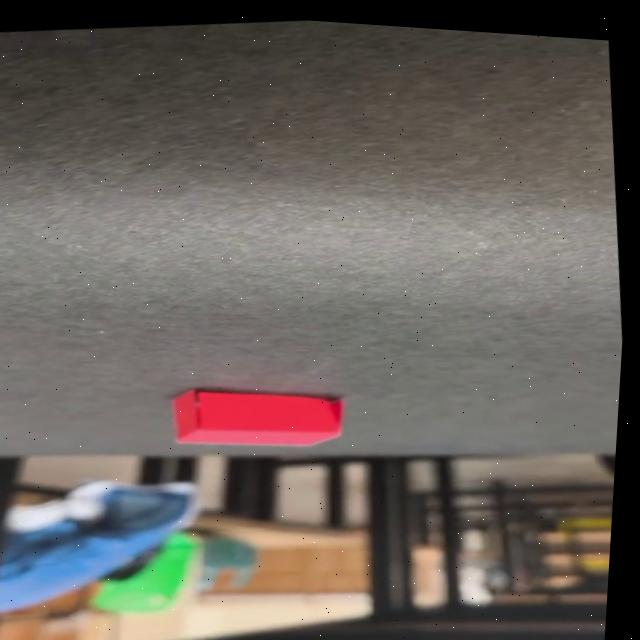red block: (165, 371, 348, 464)
